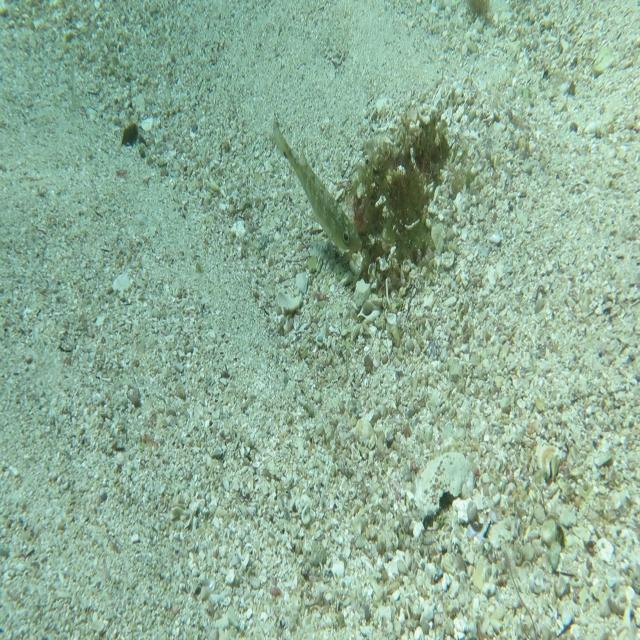MAN: (266, 113, 364, 260)
core_nest: (412, 125, 447, 160)
nest: (350, 101, 466, 287)
vegetation: (468, 0, 494, 27), (121, 123, 143, 150)
